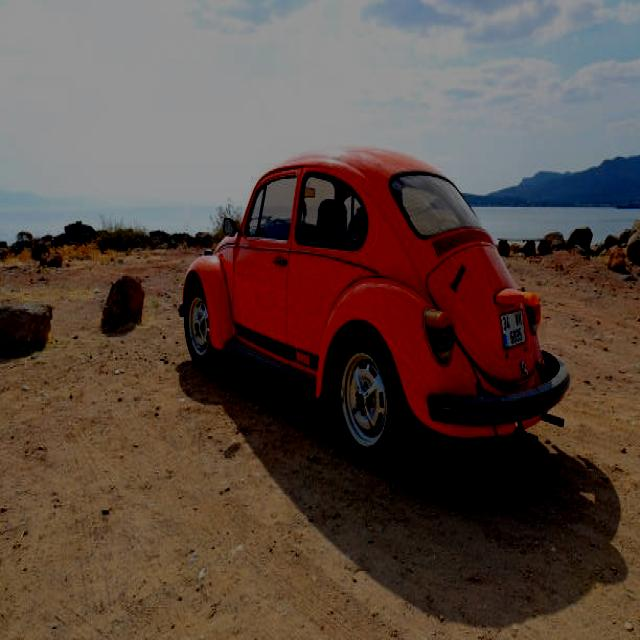car: (173, 152, 570, 462)
